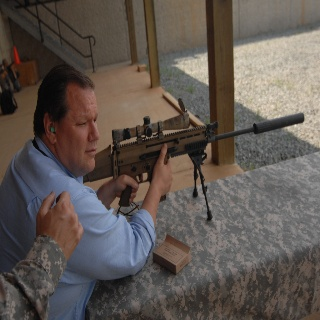rifle: (78, 96, 306, 221)
